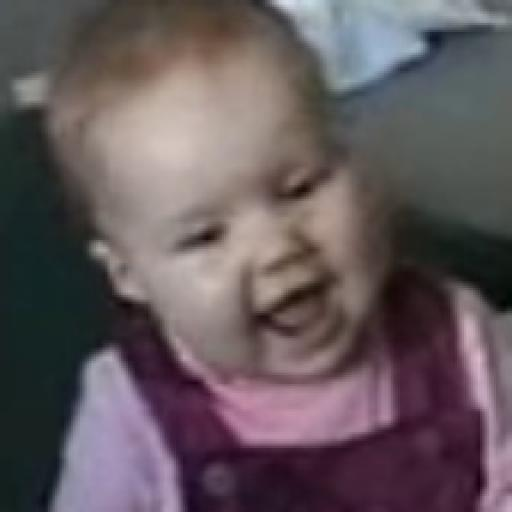Autism: (40, 0, 456, 477)
